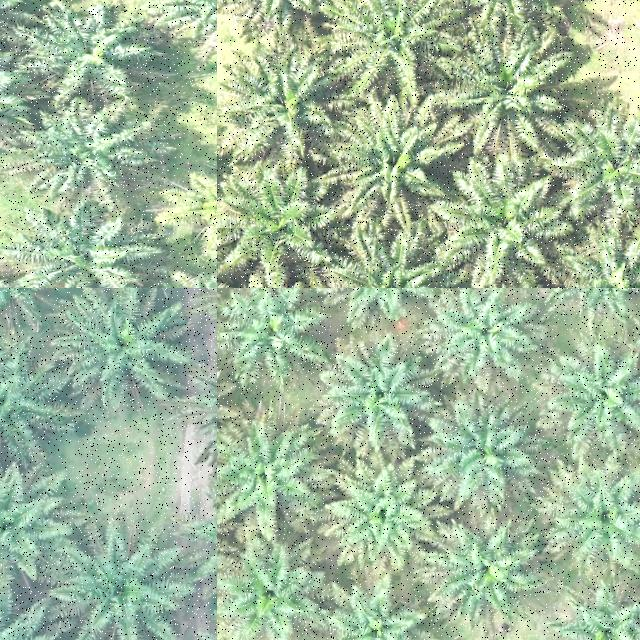Ganoderma: (185, 178, 217, 235)
